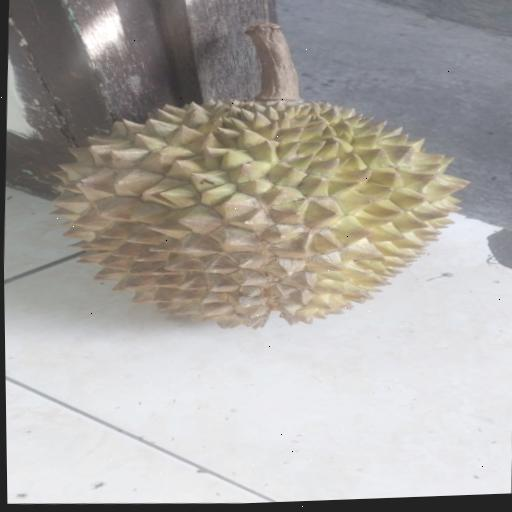rot: (13, 0, 512, 356)
